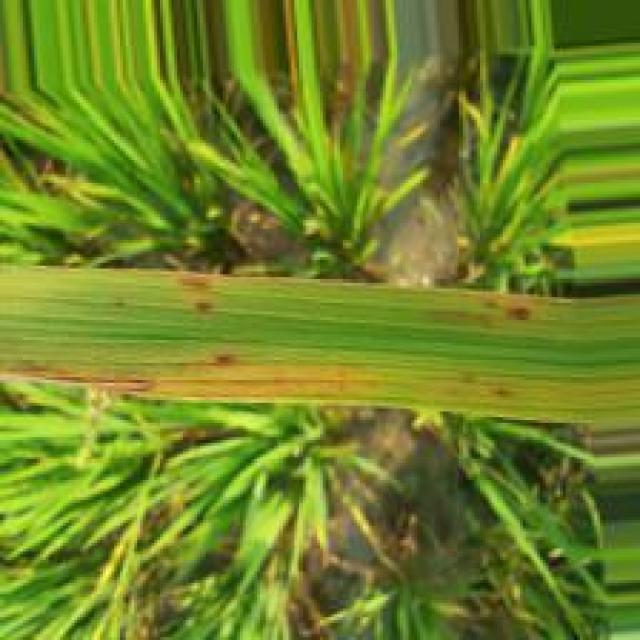Brown_Spot: (9, 359, 158, 393), (171, 274, 213, 297), (500, 305, 537, 326), (189, 298, 215, 319), (211, 351, 236, 371), (489, 389, 516, 404)
